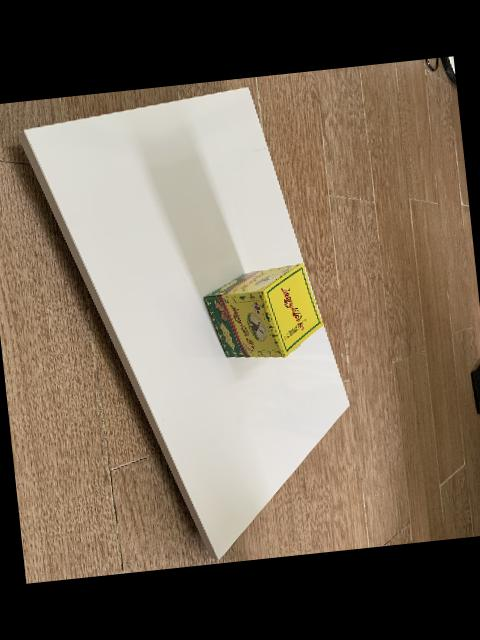luong_kho: (201, 263, 323, 358)
